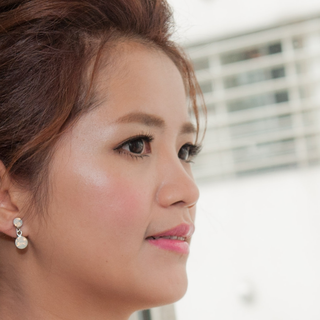eye: (112, 131, 158, 160), (174, 139, 196, 165)
